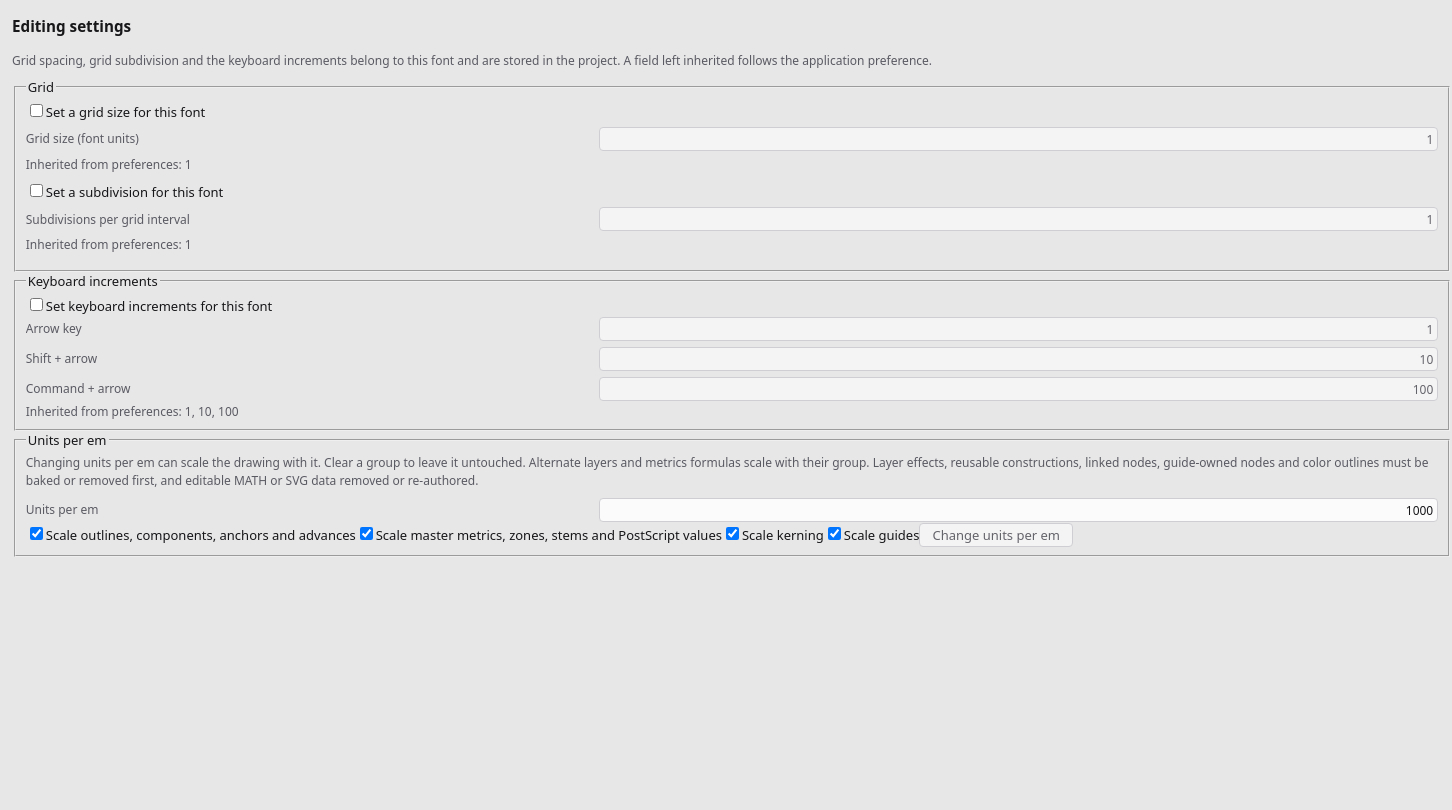
reports a refused units-per-em change without claiming it happened
This screenshot has width=1452, height=810.
Step 1. Replace the text in the field labelled "Units per em" with "2048" → (1019, 510), box [599, 498, 1438, 522]
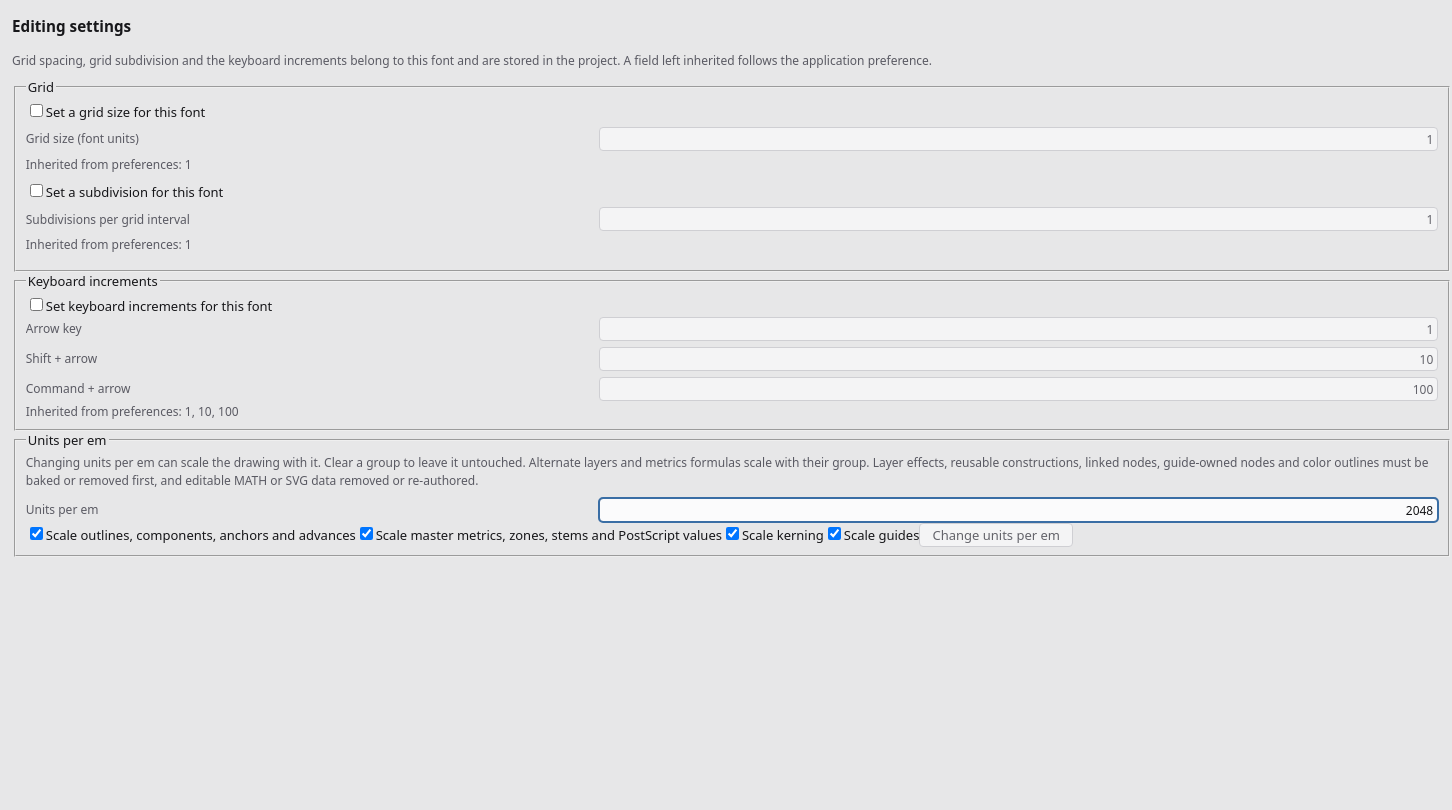
Step 2. Press Tab
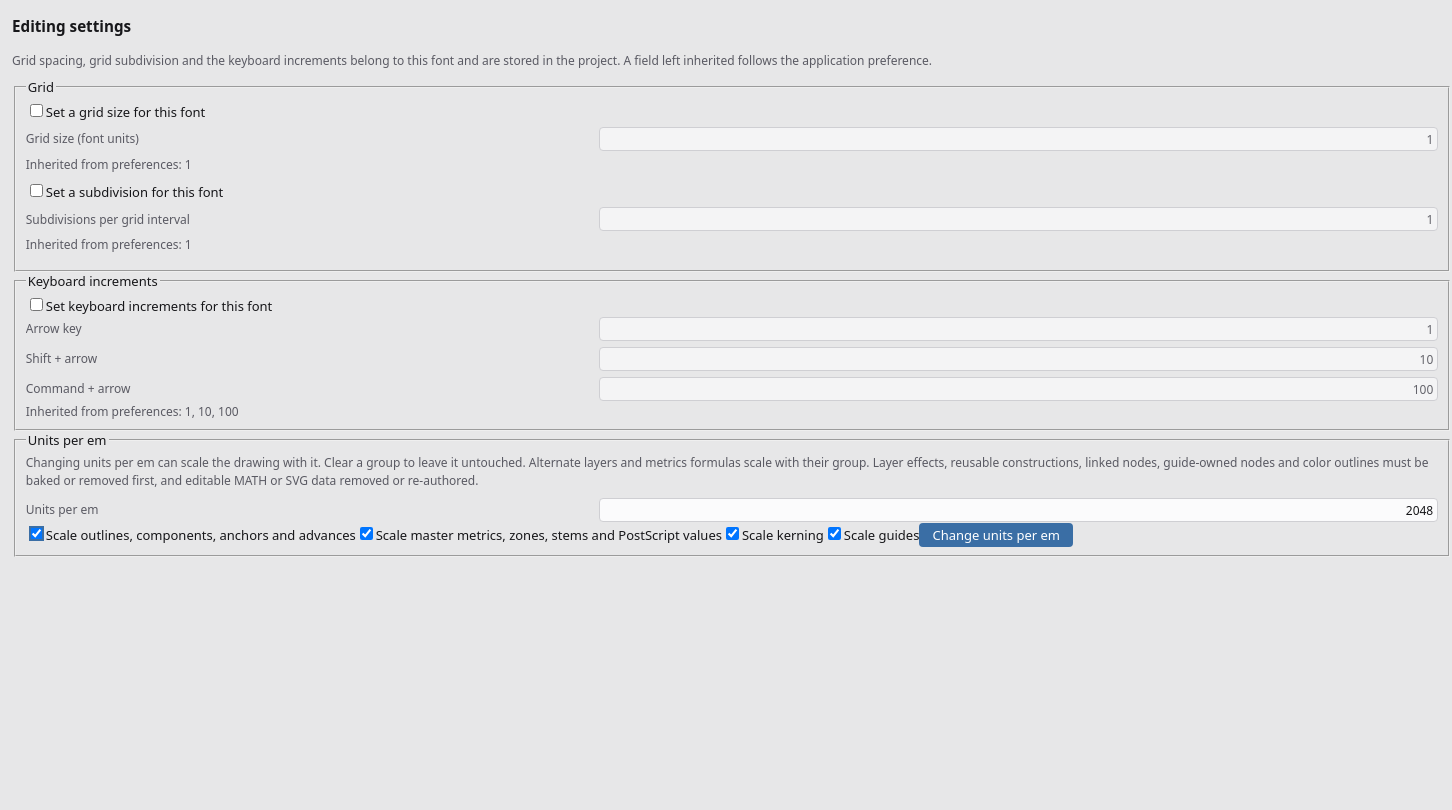
Step 3. Click the button "Change units per em" → (996, 535), box [919, 523, 1073, 547]
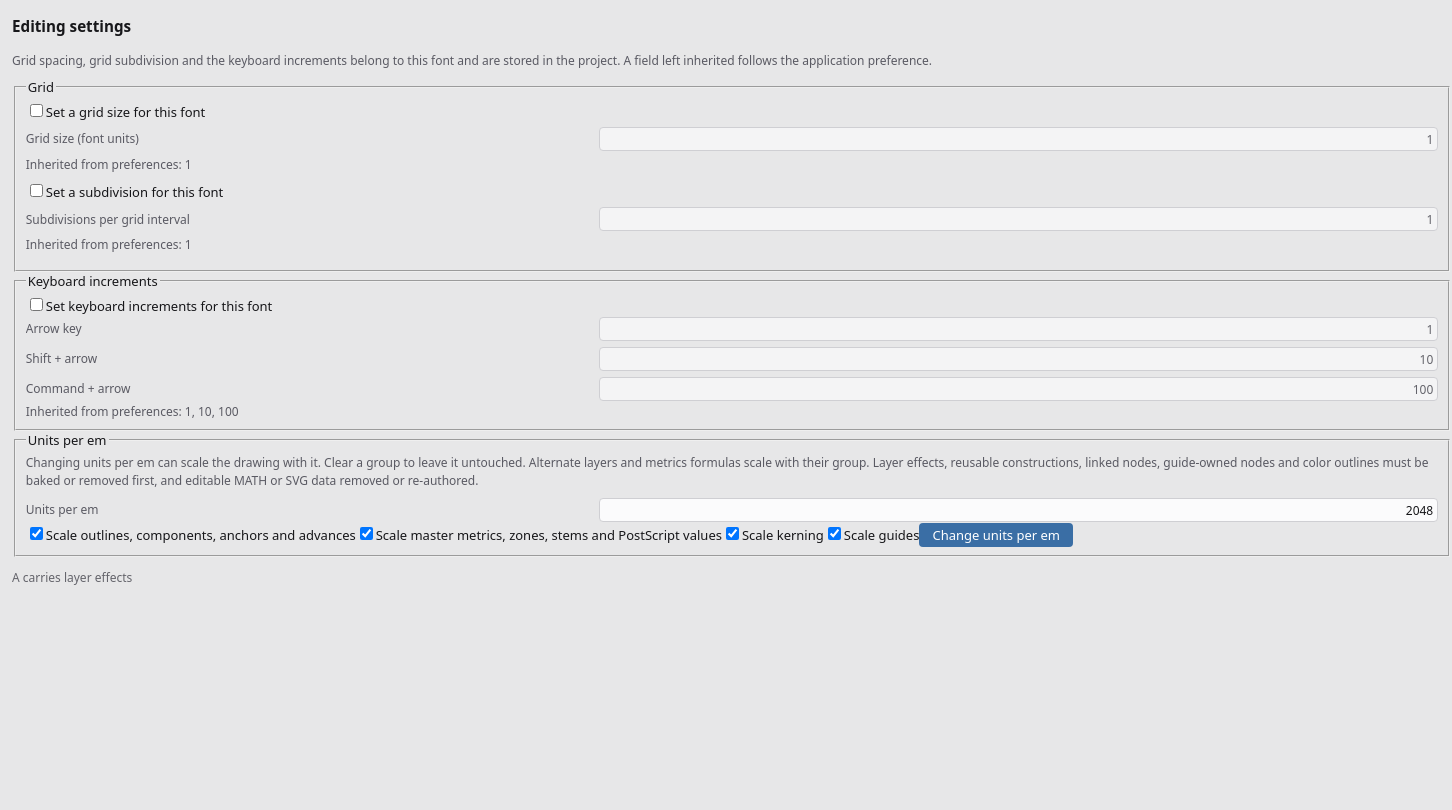
Now the message shows "layer effects", box [12, 569, 132, 586]
